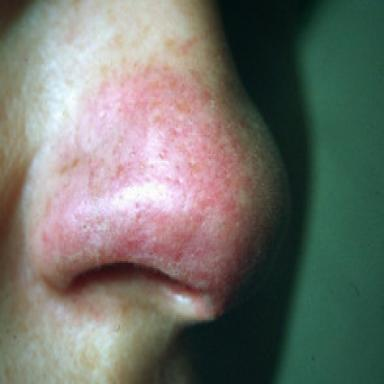Lupus-Erythematosus-Chronicus-Discoides: (36, 67, 268, 306)
